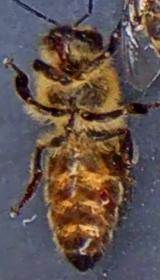varroa_mite: (92, 184, 120, 211)
